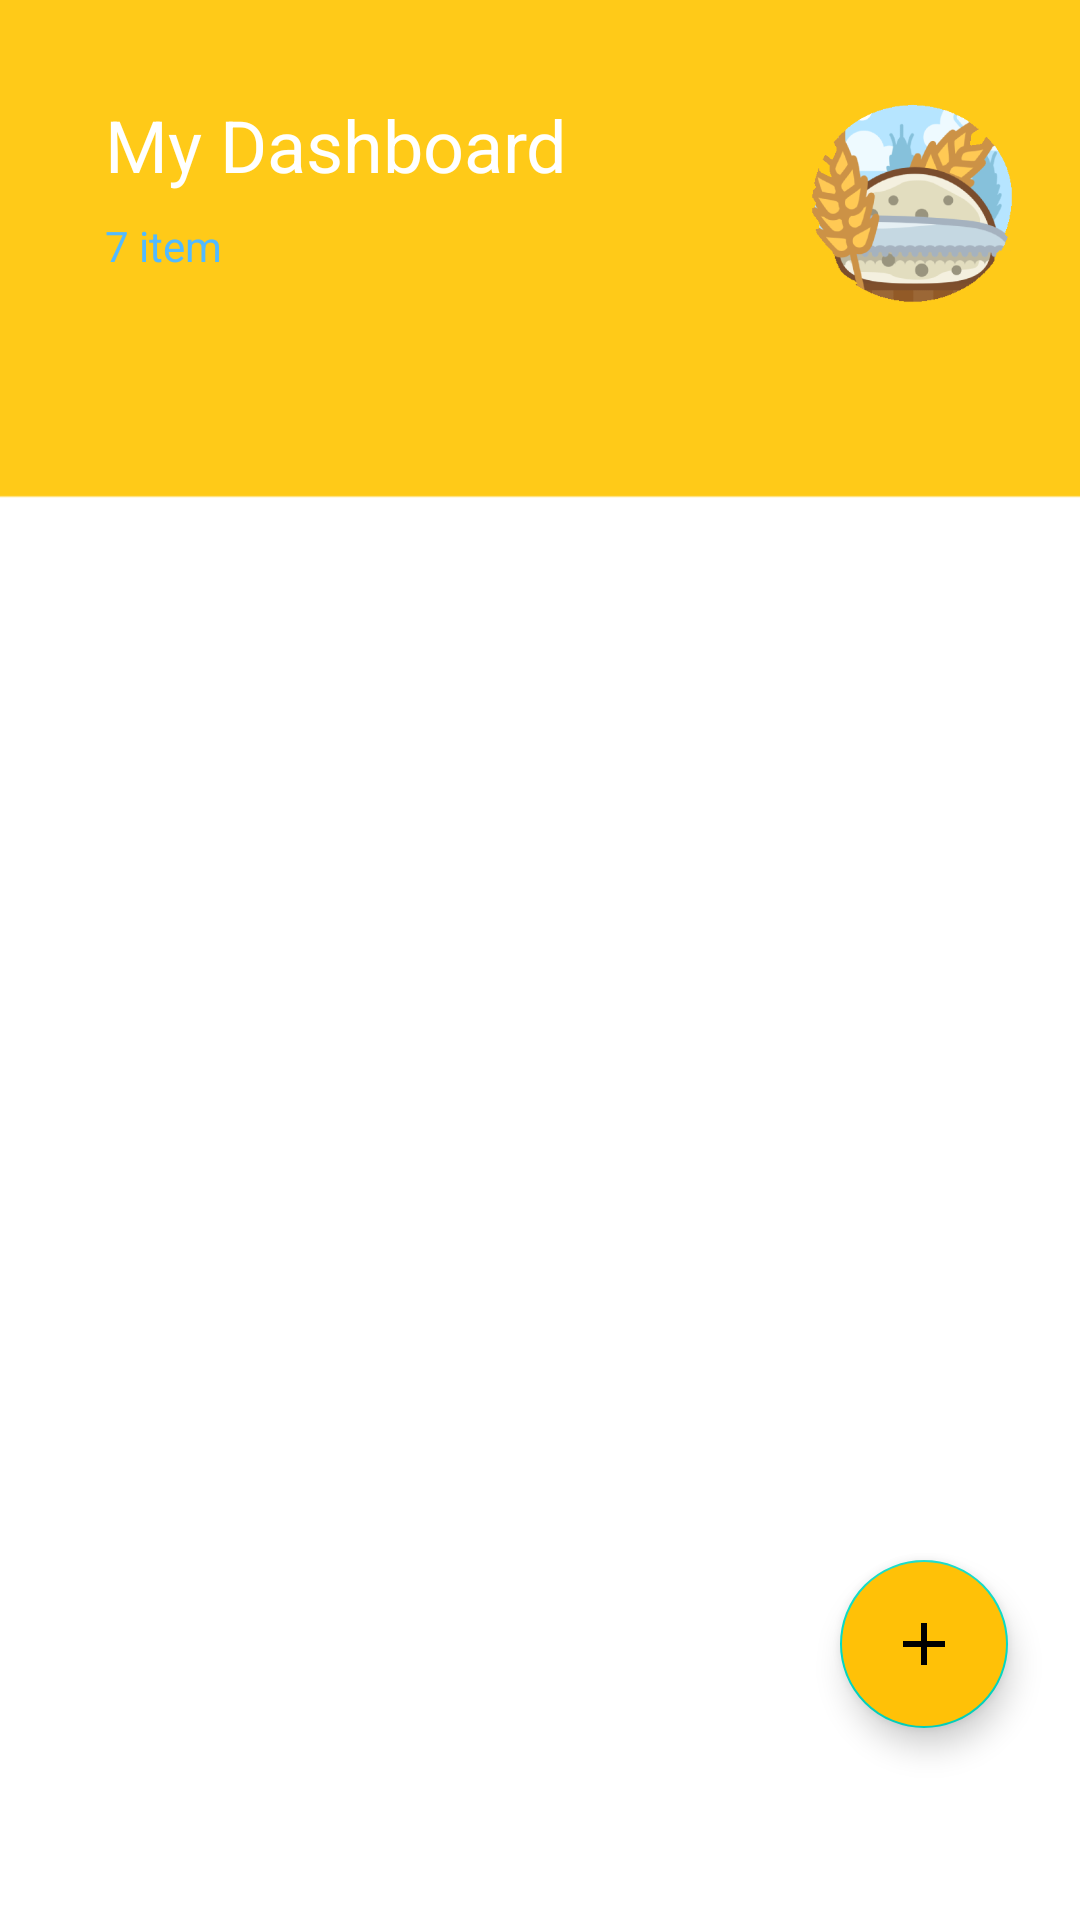

Named icons in this screenshot (1080px x 1920px) and their centers, point (x, y):
addicon: point (924, 1644)
